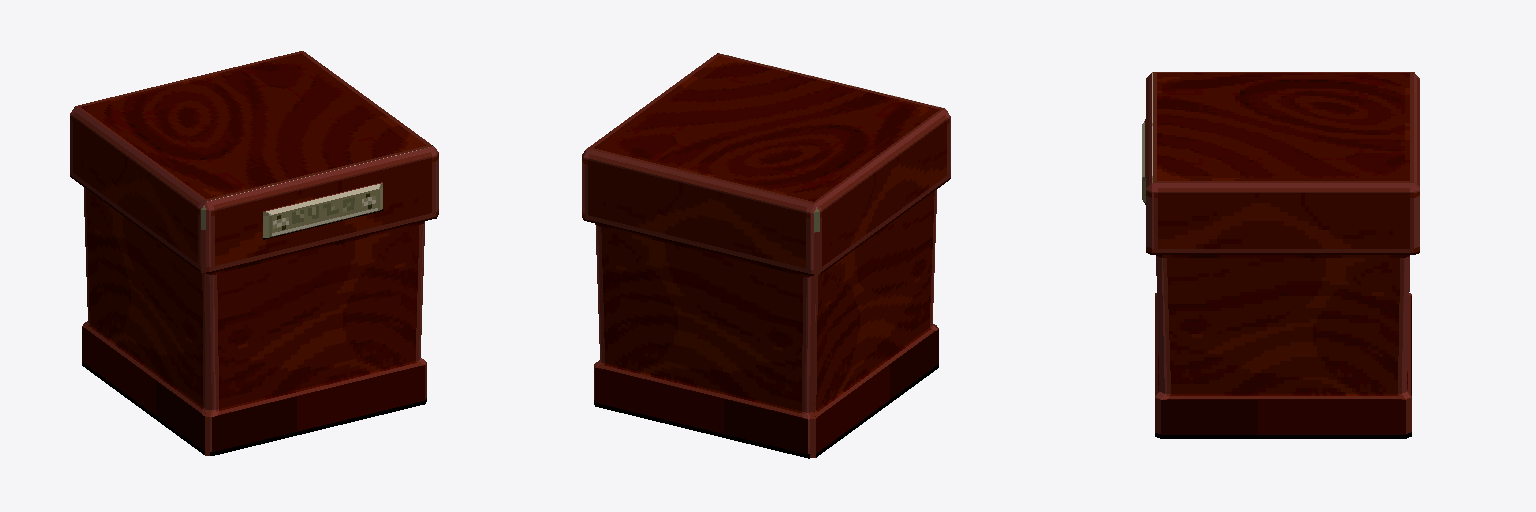
3 renders of one model, left to right at view 1: azimuth 30°, elevation 25°; view 2: azimuth 150°, elevation 25°; view 3: azimuth 270°, elevation 25°, orthographic.
Parts seen in each view (by area): view 1: polygon0_polygon0_Material.000_polygon0_polygon0_Material.000_M; view 2: polygon0_polygon0_Material.000_polygon0_polygon0_Material.000_M; view 3: polygon0_polygon0_Material.000_polygon0_polygon0_Material.000_M.
Part boxes in pixels (x1,y1,x2,y2): polygon0_polygon0_Material.000_polygon0_polygon0_Material.000_M: (70,51,438,455); polygon0_polygon0_Material.000_polygon0_polygon0_Material.000_M: (582,53,950,458); polygon0_polygon0_Material.000_polygon0_polygon0_Material.000_M: (1142,72,1419,438).
Size of the model in its own units: 0.7897 by 0.8177 by 0.8082.
Materials: 1 (1 with a texture image).